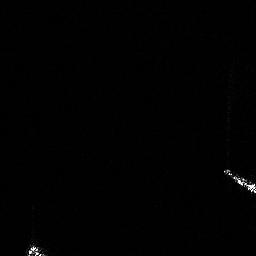ship: (223, 166, 256, 195)
